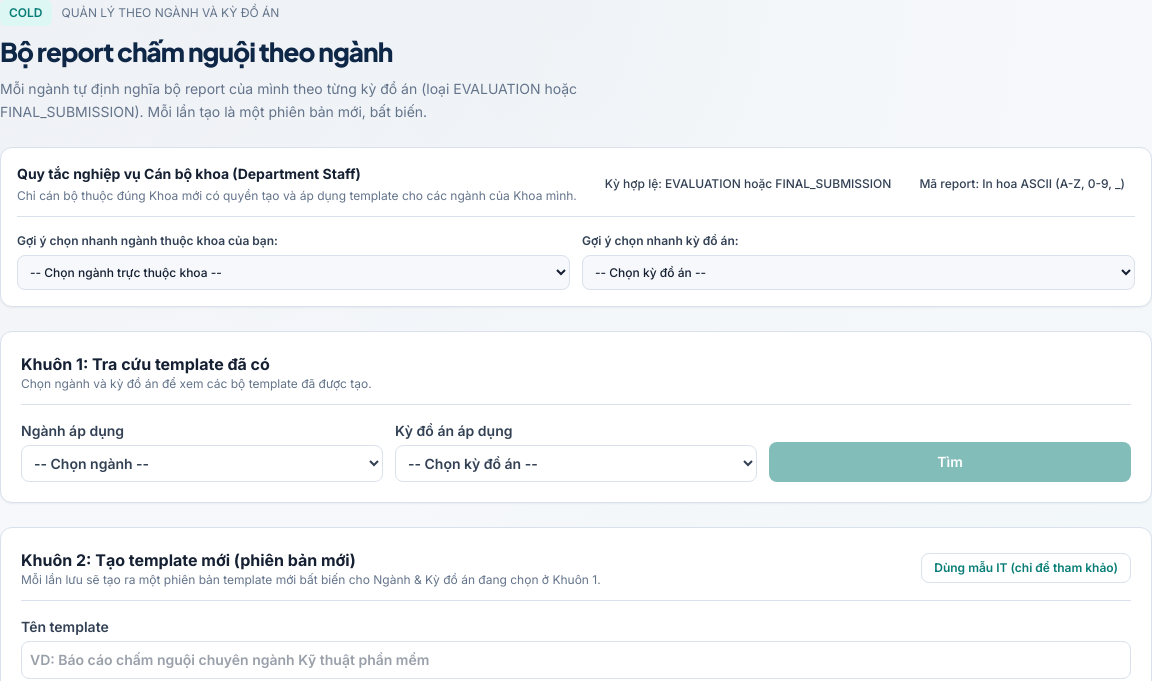
Test: ColdTemplateManagementPage › shows an empty state when the major/period has no templates yet
Select "Phần mềm (SE)" in the dropdown labelled "Ngành áp dụng": point(202, 464) [21,445,383,482]
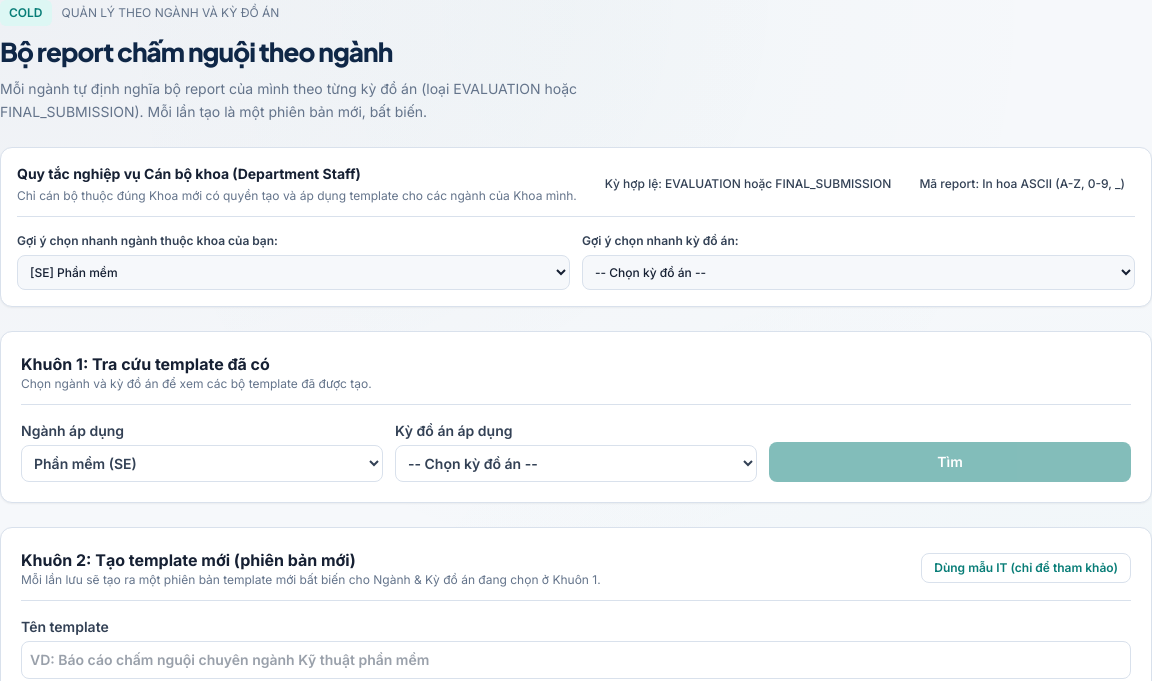
Select "Nộp cuối kỳ (FINAL)" in the dropdown labelled "Kỳ đồ án áp dụng": point(576, 464) [395,445,757,482]
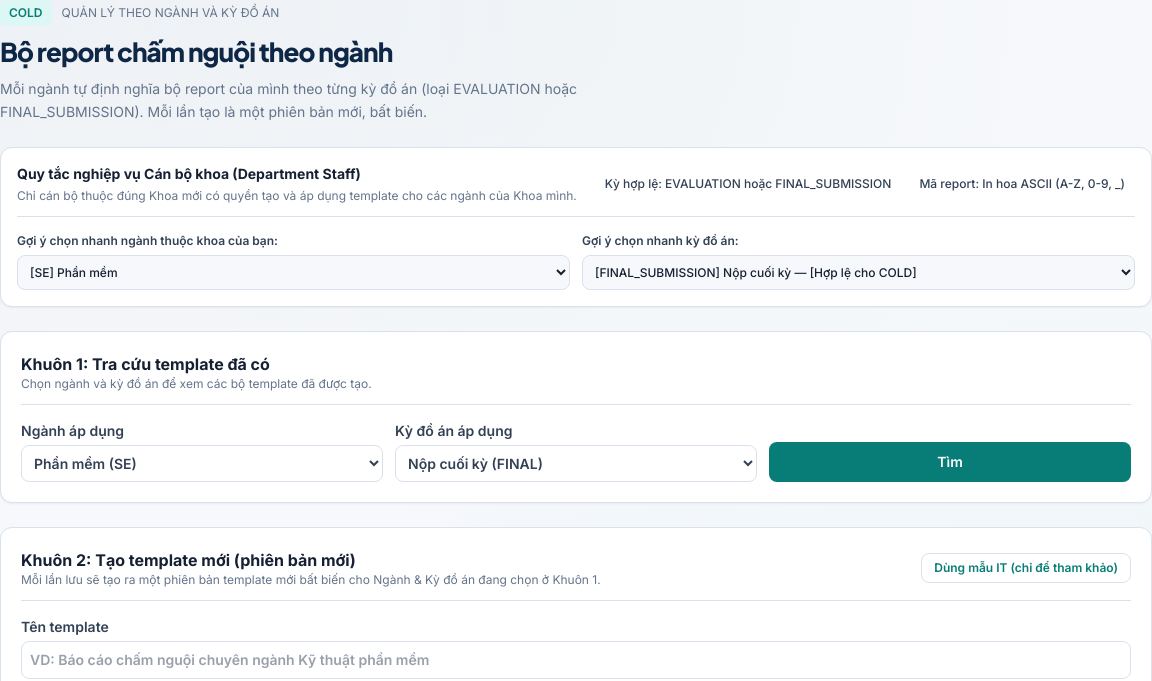
Click the button "Tìm": point(950, 462) [769,442,1131,482]
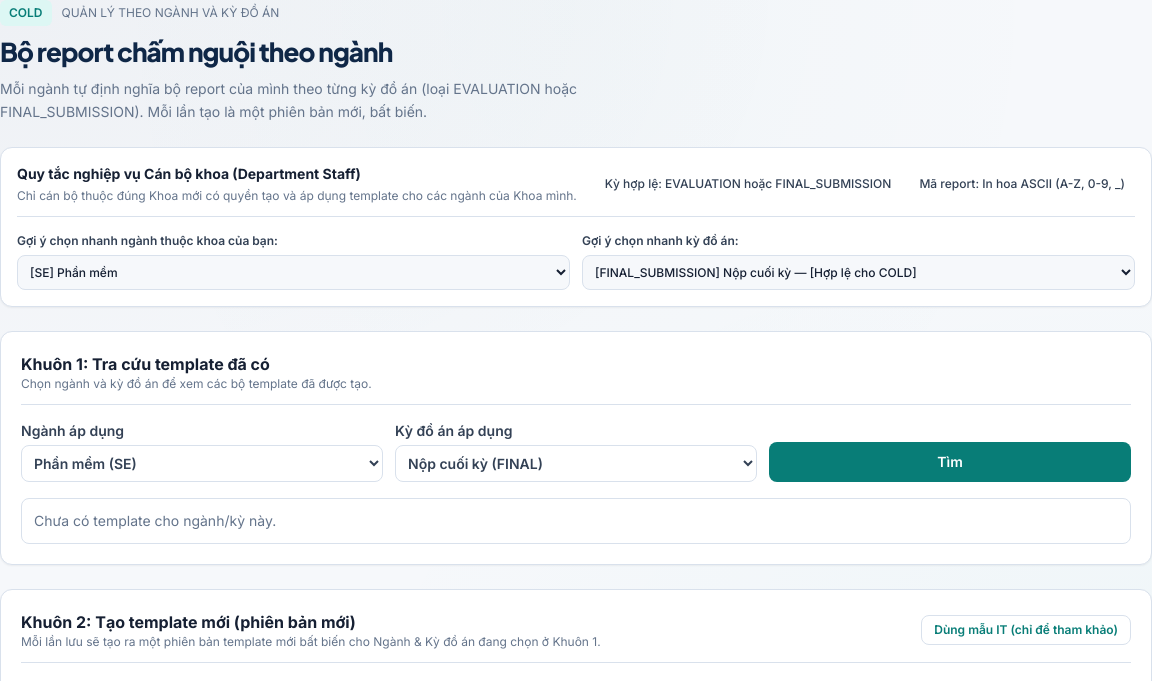
Result: the text "Chưa có template cho ngành/kỳ này." is shown at [21,498,1131,544]
